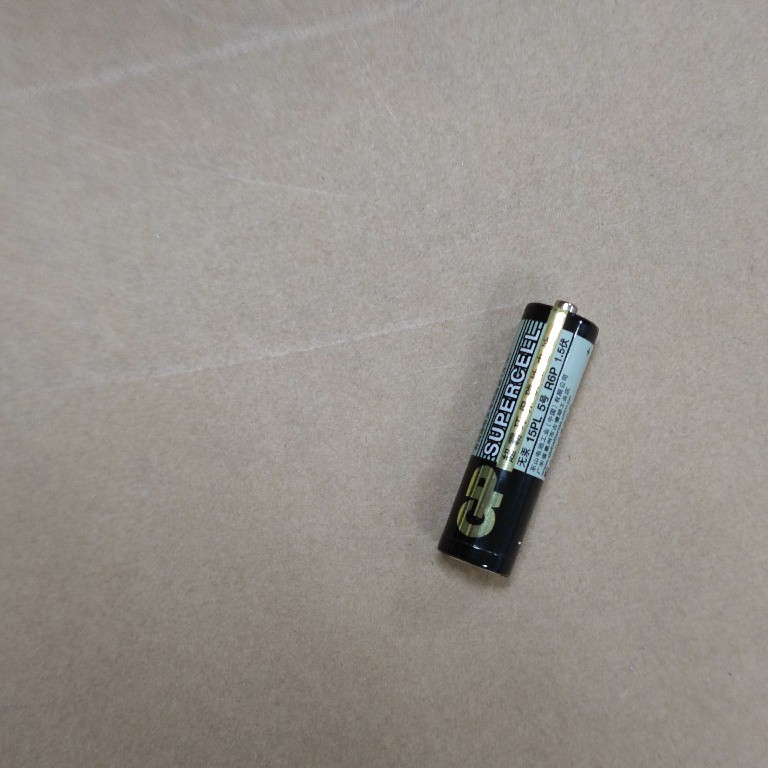charge: (433, 294, 602, 580)
